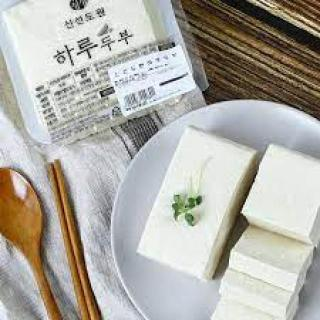Tahu: (140, 111, 320, 317)
